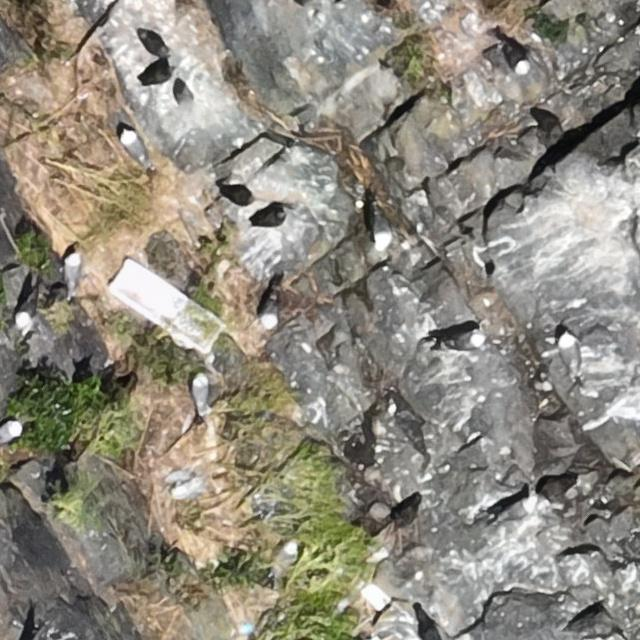umineko: (15, 279, 45, 329), (367, 200, 392, 252), (270, 540, 299, 584), (503, 34, 531, 78), (492, 499, 532, 520), (561, 333, 580, 374), (442, 331, 482, 350), (122, 130, 145, 162), (62, 253, 80, 292), (139, 33, 165, 58), (192, 374, 209, 410), (262, 296, 279, 327), (1, 422, 22, 444)
